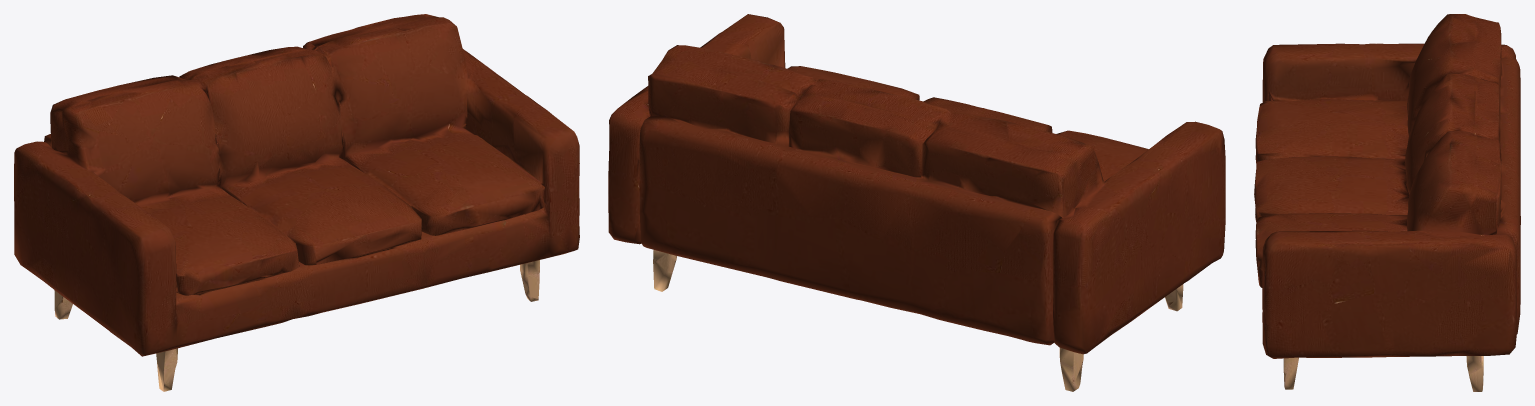
File: sofa.glb
3 renders of one model, left to right at view 1: azimuth 30°, elevation 25°; view 2: azimuth 150°, elevation 25°; view 3: azimuth 270°, elevation 25°, orthographic. The views are drawn at different scales.
Size of the model in its own units: 1.9 by 0.8969 by 1.05.
1 material, 1 textured.
